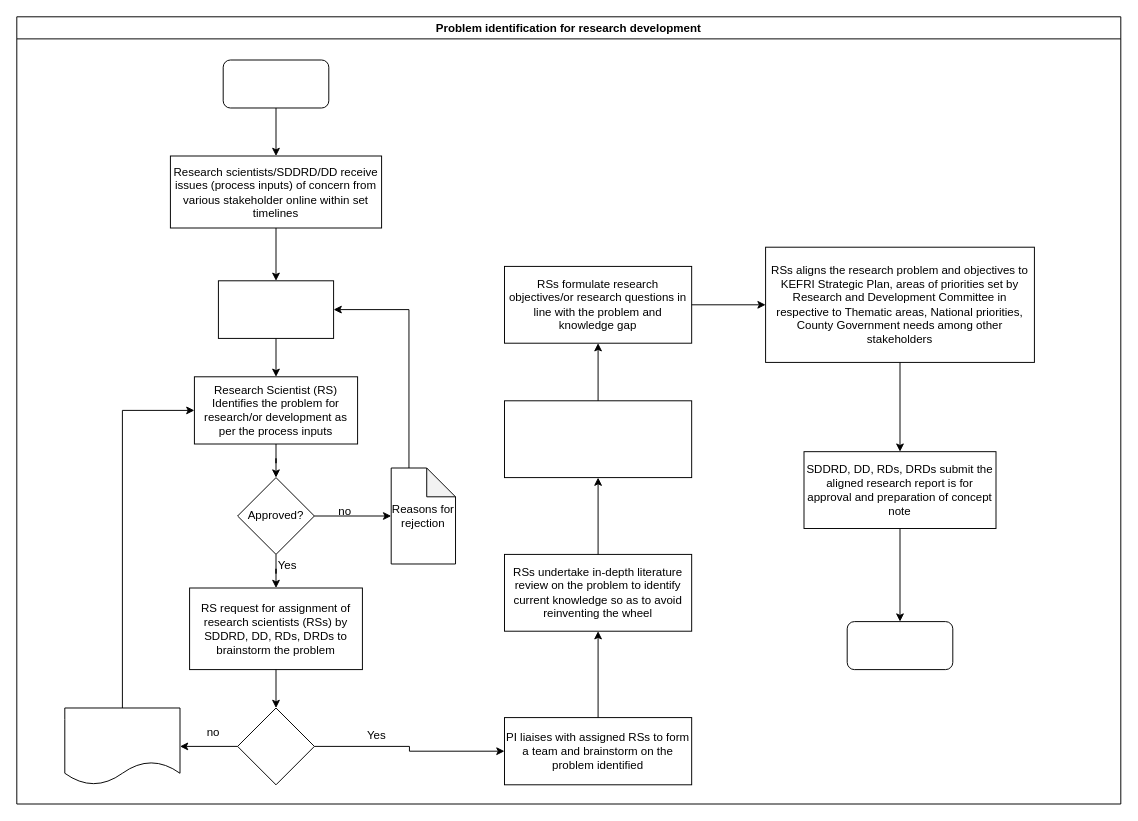
This 1138x821 diagram has some shape labels left out. Each missing label, with the centre of its shape:
"Comment/Notes on unavailability of scientists" belongs at [122,746].
"End" belongs at [899,645].
"RSs available?" belongs at [275,746].
"RSs identify the gaps the exists in order to shape the research objectives" belongs at [598,439].
"Start" belongs at [275,83].
"Synthesis/Analysis of various input processes" belongs at [275,309].
